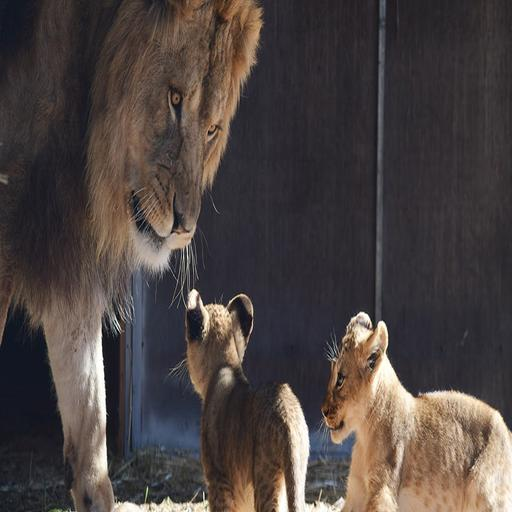Lion: (0, 0, 266, 512), (321, 309, 512, 512), (168, 285, 320, 512)
